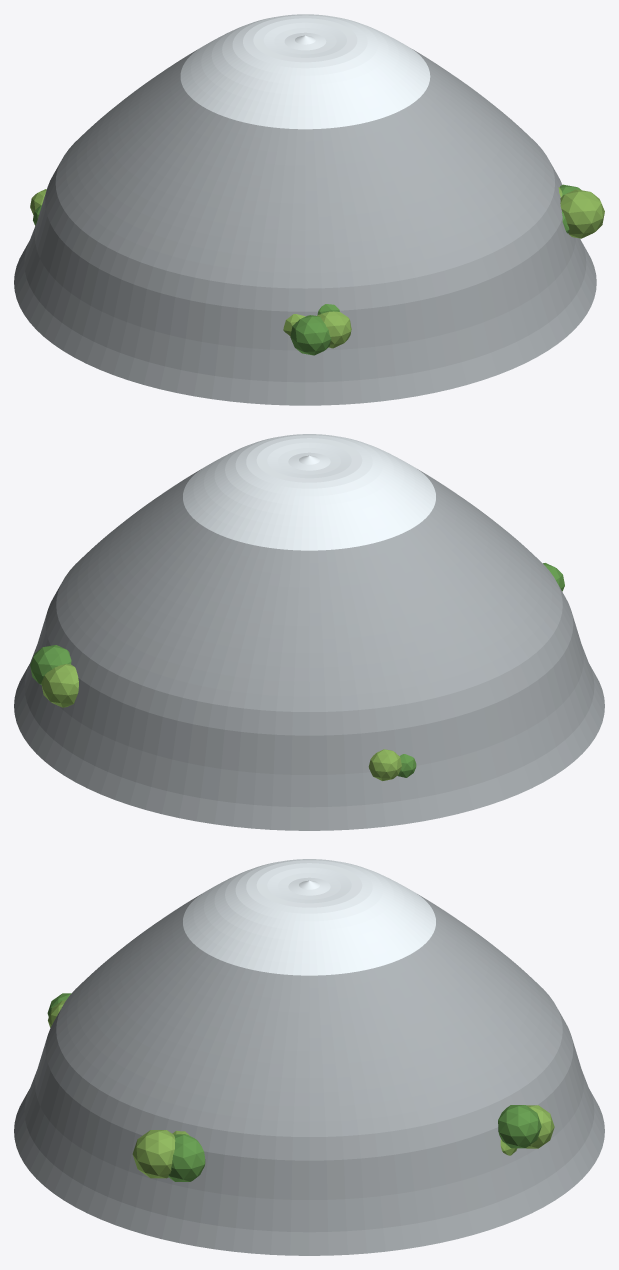
File: FEATURE_KILIMANJARO.fbx
3 views of the same model, one above another, from view 1: azimuth 30°, elevation 25°; view 2: azimuth 150°, elevation 25°; view 3: azimuth 270°, elevation 25° (orthographic).
Parts seen in each view (by area): view 1: Kibo_shield, Broadleaf_crown.023, Broadleaf_crown.030, Broadleaf_crown.031; view 2: Kibo_shield, Broadleaf_crown.013, Broadleaf_crown.012, Broadleaf_crown.005; view 3: Kibo_shield, Broadleaf_crown.023, Broadleaf_crown.012, Broadleaf_crown.020, Broadleaf_crown.013.
Boxes of the visible parts, x1,y1,x2,y2 form: Kibo_shield: (14,14,596,405); Broadleaf_crown.023: (560,189,604,238); Broadleaf_crown.030: (290,315,331,355); Broadleaf_crown.031: (317,311,351,348); Kibo_shield: (14,434,604,830); Broadleaf_crown.013: (41,664,78,707); Broadleaf_crown.012: (30,645,71,684); Broadleaf_crown.005: (368,749,401,780); Kibo_shield: (14,859,604,1255); Broadleaf_crown.023: (132,1130,175,1178); Broadleaf_crown.012: (498,1105,541,1148); Broadleaf_crown.020: (168,1134,205,1181); Broadleaf_crown.013: (526,1105,554,1148).
Size of the model in its own units: 154 by 72 by 154.
